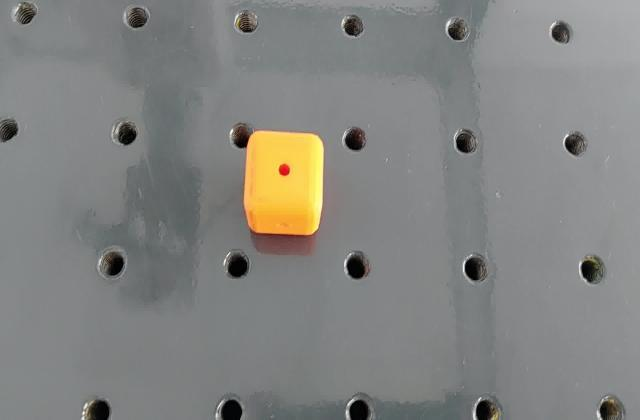cube: (241, 127, 327, 240)
